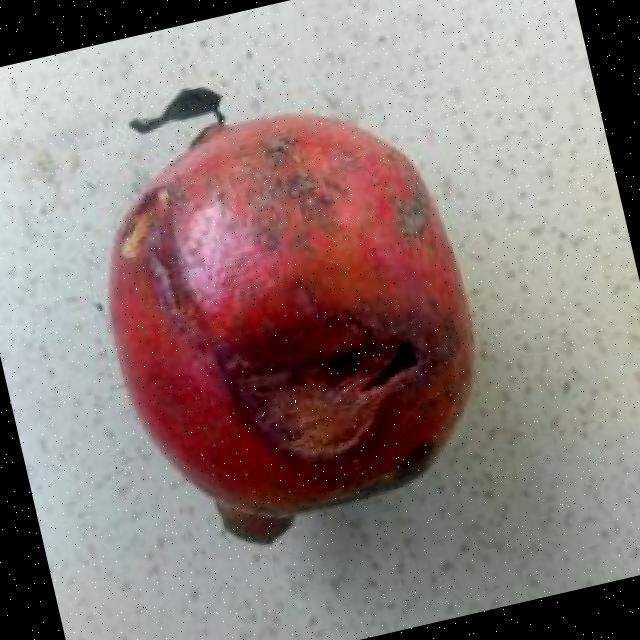Rotten: (52, 30, 518, 576)
